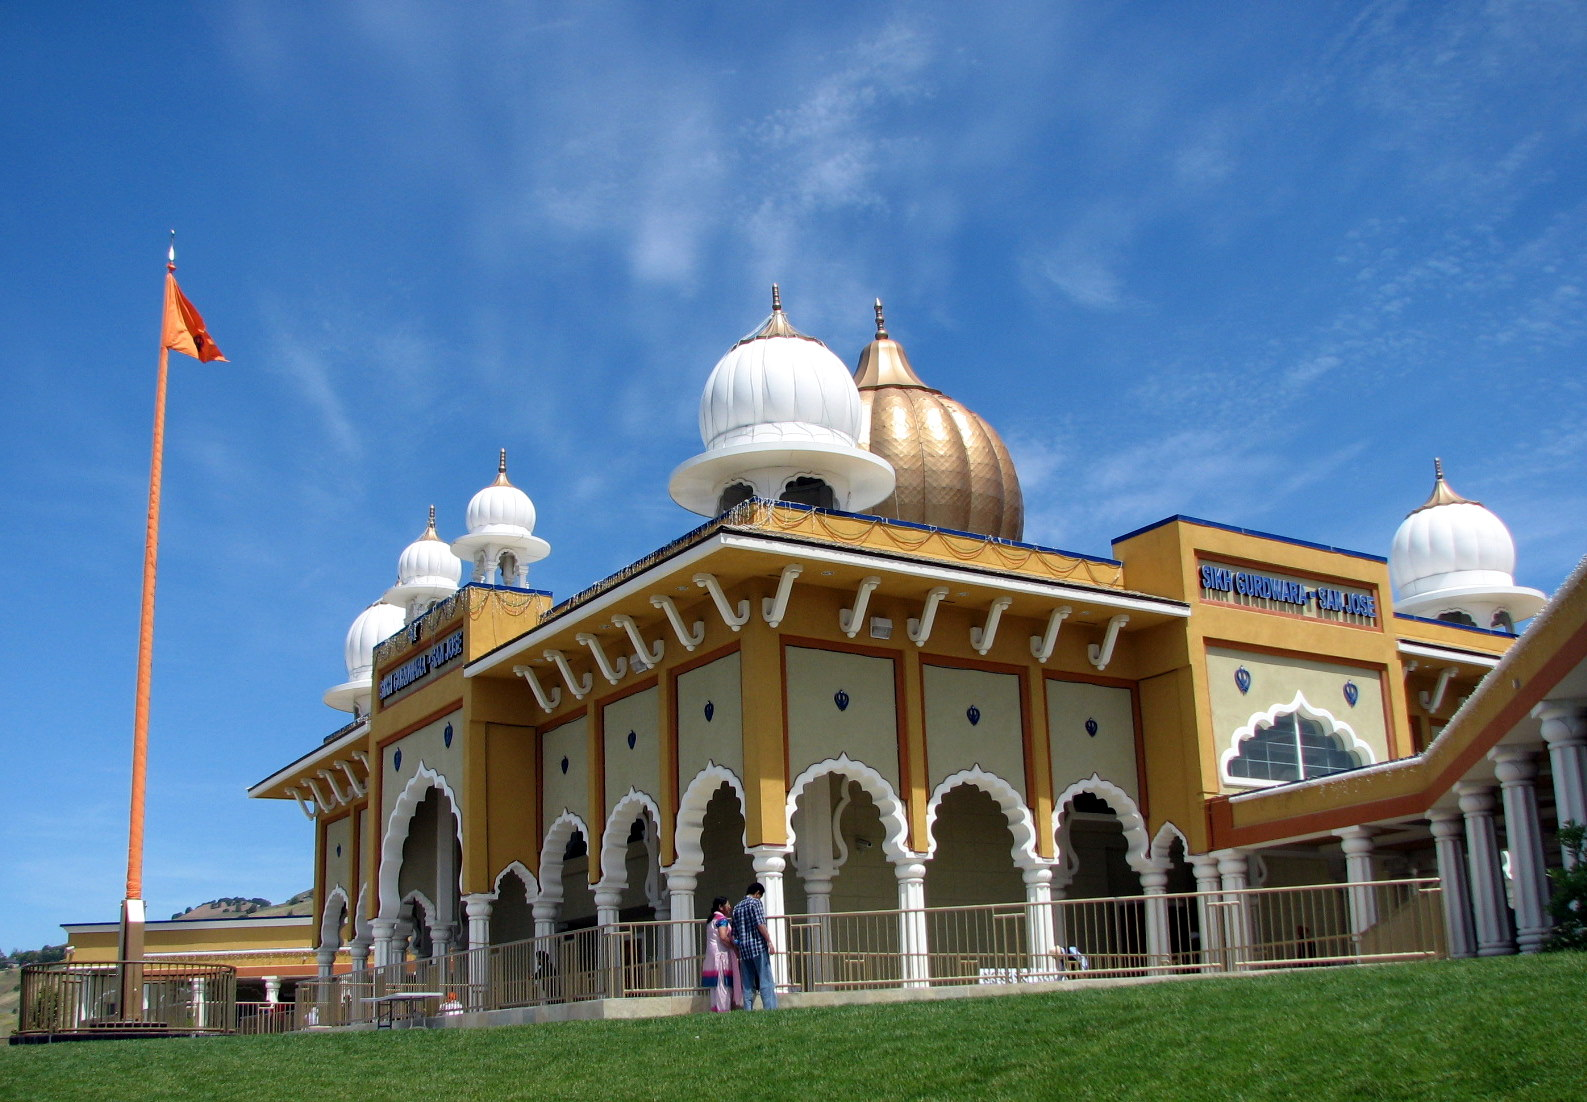Gurdwara: (164, 291, 1504, 852)
